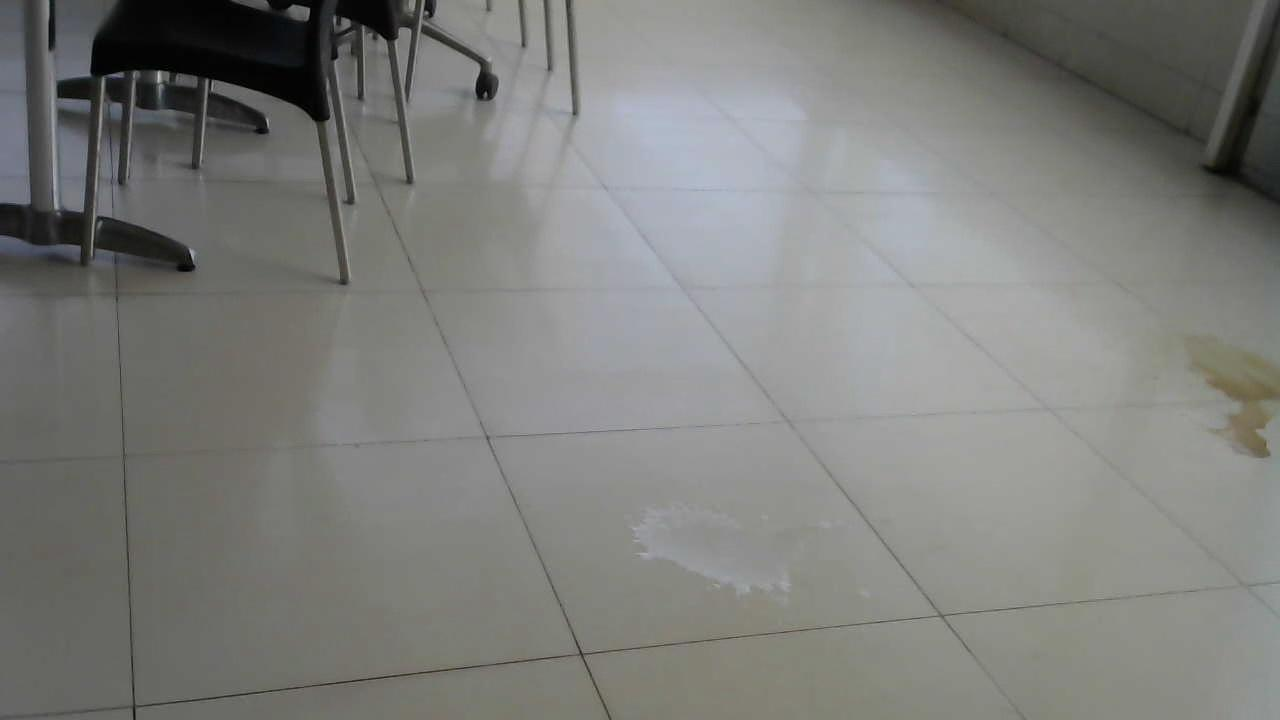dirty_floor: (622, 499, 803, 606), (1174, 325, 1280, 466)
